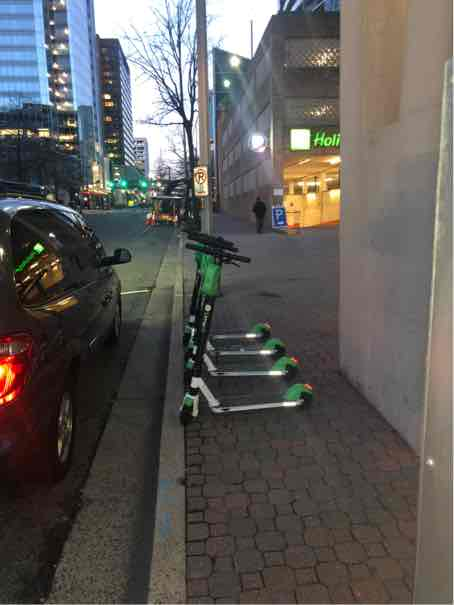too close: (149, 386, 221, 448)
